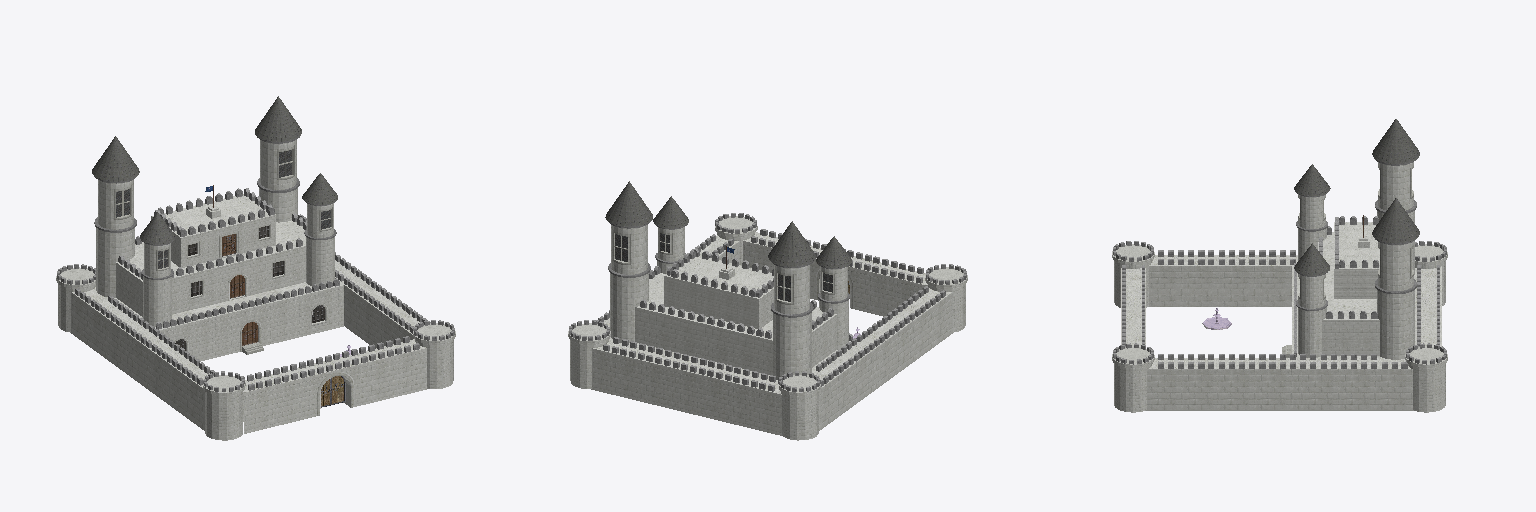
3 renders of one model, left to right at view 1: azimuth 30°, elevation 25°; view 2: azimuth 150°, elevation 25°; view 3: azimuth 270°, elevation 25°, orthographic.
Parts seen in each view (by area): view 1: Castle_OBJ; view 2: Castle_OBJ; view 3: Castle_OBJ.
Part boxes in pixels (bbox=[...]): Castle_OBJ: bbox=[56, 96, 455, 440]; Castle_OBJ: bbox=[568, 181, 967, 440]; Castle_OBJ: bbox=[1112, 119, 1447, 412].
Size of the model in its own units: 53.37 by 40.26 by 62.77.
4 materials, 4 textured.